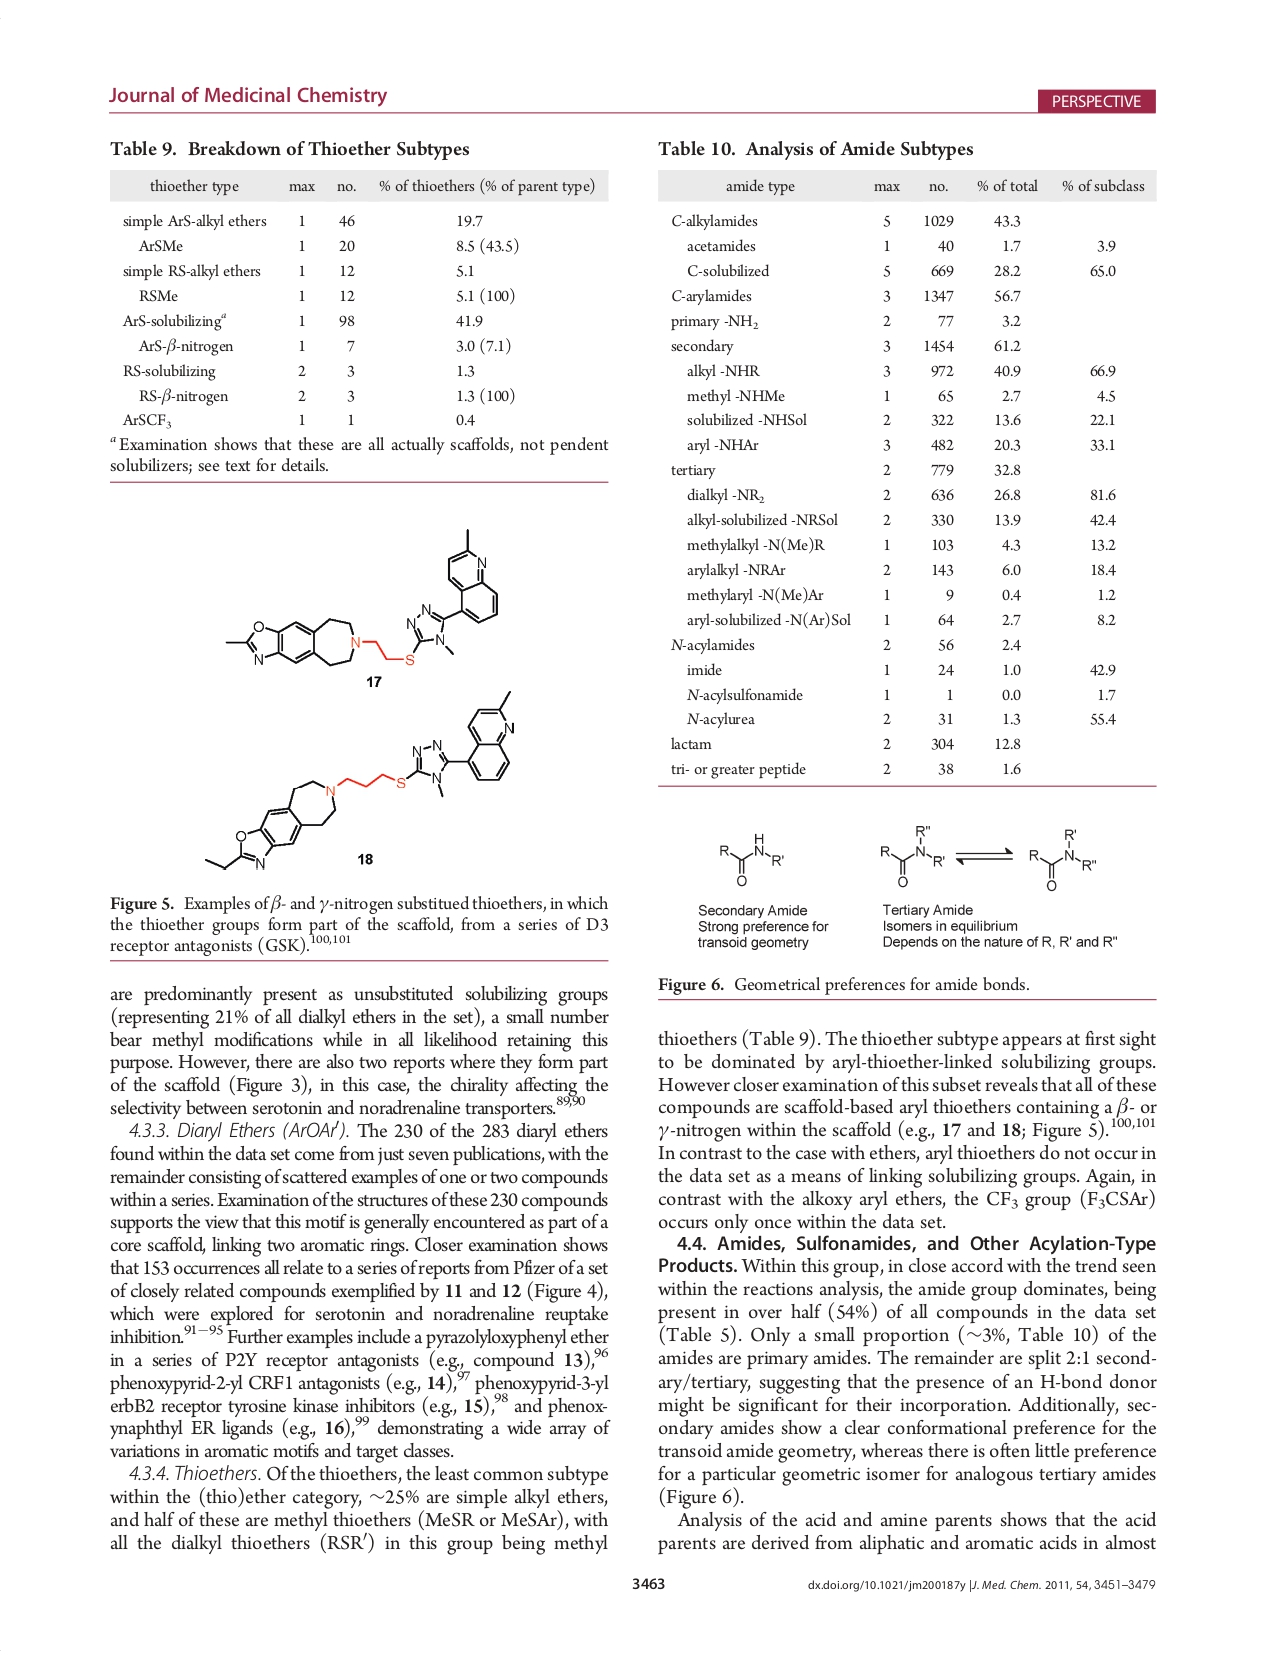exist_molecular: (201, 690, 519, 872), (219, 523, 501, 668), (1024, 823, 1102, 896), (876, 819, 949, 891), (711, 829, 787, 891)
